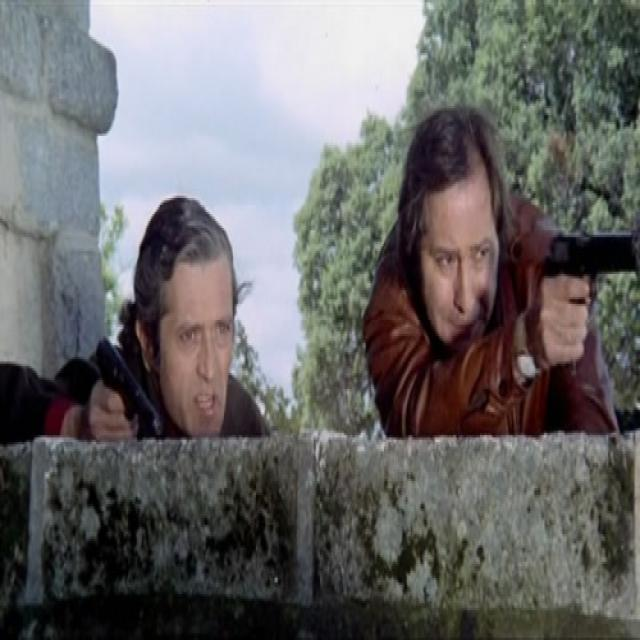weapons: (531, 189, 640, 364), (74, 316, 178, 452)
